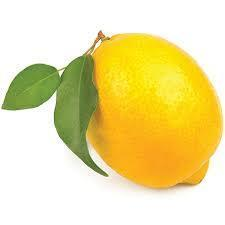lemon: (86, 32, 223, 188)
